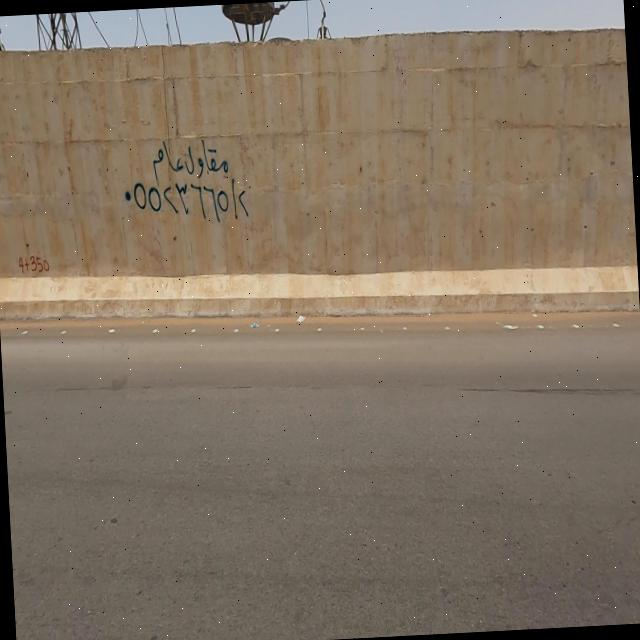Graffiti: (123, 136, 252, 230), (18, 256, 51, 280)
